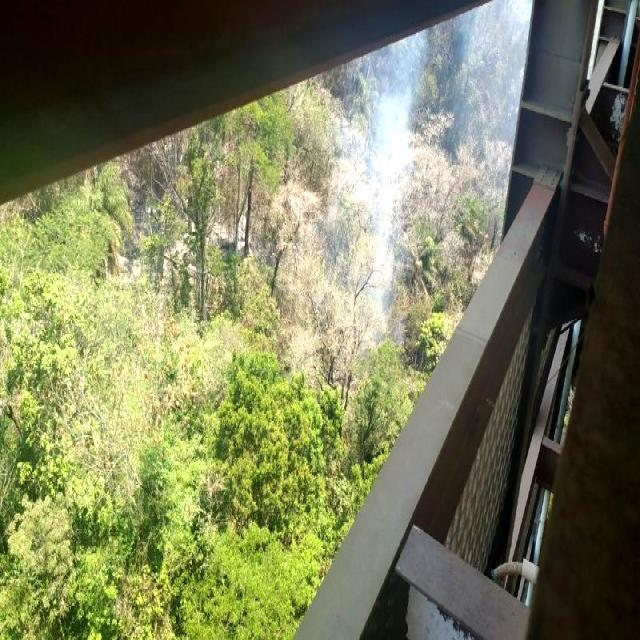Smoke: (339, 38, 436, 330)
